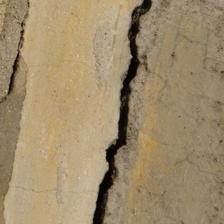Crack: (0, 0, 82, 179), (0, 22, 44, 134)
